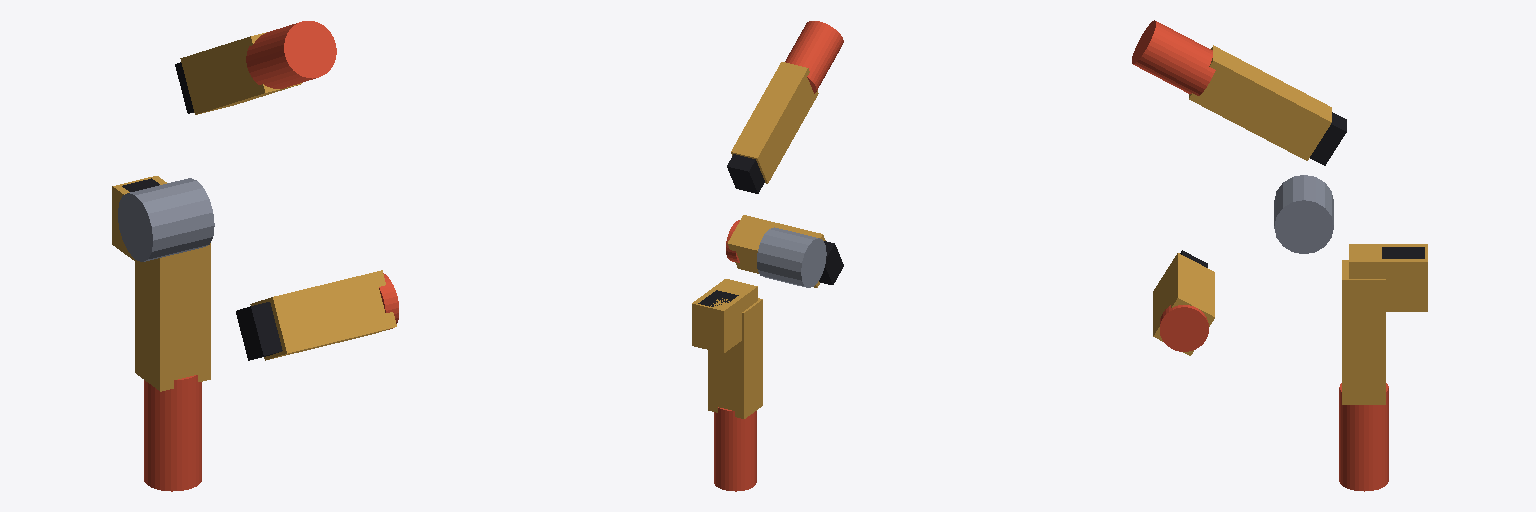
URDF robot description (g0004_c13):
<robot name="g0004_c13">
  <link name="palm">
    <visual name="palm_palm1">
      <origin xyz="0 0 0" rpy="0 0 0" />
      <geometry>
        <mesh filename="palm_palm1.obj" />
      </geometry>
      <material name="palm_palm1_mat">
        <color rgba="0.55 0.57 0.62 1" />
      </material>
    </visual>
    <collision>
      <origin xyz="0 0 0" rpy="0 0 0" />
      <geometry>
        <mesh filename="palm_palm1.obj" />
      </geometry>
    </collision>
    <visual name="palm_mount2">
      <origin xyz="0 0 0" rpy="0 0 0" />
      <geometry>
        <mesh filename="palm_mount2.obj" />
      </geometry>
      <material name="palm_mount2_mat">
        <color rgba="0.55 0.57 0.62 1" />
      </material>
    </visual>
    <collision>
      <origin xyz="0 0 0" rpy="0 0 0" />
      <geometry>
        <mesh filename="palm_mount2.obj" />
      </geometry>
    </collision>
    <visual name="palm_motor3">
      <origin xyz="-0.007 -0.08 -0.04" rpy="1.06057524e-16 -1.04719755 1.57079633" />
      <geometry>
        <box size="0.029 0.034 0.02" />
      </geometry>
      <material name="palm_motor3_mat">
        <color rgba="0.15 0.15 0.17 1" />
      </material>
    </visual>
    <collision>
      <origin xyz="-0.007 -0.08 -0.04" rpy="1.06057524e-16 -1.04719755 1.57079633" />
      <geometry>
        <box size="0.029 0.034 0.02" />
      </geometry>
    </collision>
    <visual name="palm_motor4">
      <origin xyz="0 0.00649519053 0.07625" rpy="-1.57079633 -1.04719755 1.57079633" />
      <geometry>
        <box size="0.029 0.034 0.02" />
      </geometry>
      <material name="palm_motor4_mat">
        <color rgba="0.15 0.15 0.17 1" />
      </material>
    </visual>
    <collision>
      <origin xyz="0 0.00649519053 0.07625" rpy="-1.57079633 -1.04719755 1.57079633" />
      <geometry>
        <box size="0.029 0.034 0.02" />
      </geometry>
    </collision>
    <visual name="palm_motor5">
      <origin xyz="-0.0045 0.0665 -0.0325" rpy="1.57079633 1.2246468e-16 -1.57079633" />
      <geometry>
        <box size="0.029 0.034 0.02" />
      </geometry>
      <material name="palm_motor5_mat">
        <color rgba="0.15 0.15 0.17 1" />
      </material>
    </visual>
    <collision>
      <origin xyz="-0.0045 0.0665 -0.0325" rpy="1.57079633 1.2246468e-16 -1.57079633" />
      <geometry>
        <box size="0.029 0.034 0.02" />
      </geometry>
    </collision>
    <inertial>
      <origin xyz="0 0.00036853476 0.00140943378" rpy="-1.57079633 0.555818498 -1.57079633" />
      <mass value="0.735750304" />
      <inertia ixx="0.00102688276" ixy="0" ixz="0" iyy="0.00139530979" iyz="0" izz="0.00235156052" />
    </inertial>
  </link>
  <link name="f0_link0">
    <visual name="f0_link0_link1">
      <origin xyz="0.02375 0 -6.9388939e-18" rpy="4.06369831e-17 2.80588734e-33 -2.0827301e-33" />
      <geometry>
        <box size="0.0715 0.033 0.029" />
      </geometry>
      <material name="f0_link0_link1_mat">
        <color rgba="0.80 0.62 0.30 1" />
      </material>
    </visual>
    <collision>
      <origin xyz="0.02375 0 -6.9388939e-18" rpy="4.06369831e-17 2.80588734e-33 -2.0827301e-33" />
      <geometry>
        <box size="0.0715 0.033 0.029" />
      </geometry>
    </collision>
    <inertial>
      <origin xyz="0.02375 0 0" rpy="0 0 0" />
      <mass value="0.119744625" />
      <inertia ixx="1.92589272e-05" ixy="0" ixz="0" iyy="5.94058074e-05" iyz="0" izz="6.18805296e-05" />
    </inertial>
  </link>
  <link name="f0_link1">
    <visual name="f0_link1_link1">
      <origin xyz="0.009 6.9388939e-18 -6.9388939e-18" rpy="-1.57079633 -0 -1.57079633" />
      <geometry>
        <cylinder radius="0.0165" length="0.009" />
      </geometry>
      <material name="f0_link1_link1_mat">
        <color rgba="0.85 0.35 0.25 1" />
      </material>
    </visual>
    <collision>
      <origin xyz="0.009 6.9388939e-18 -6.9388939e-18" rpy="-1.57079633 -0 -1.57079633" />
      <geometry>
        <cylinder radius="0.0165" length="0.009" />
      </geometry>
    </collision>
    <inertial>
      <origin xyz="0.009 0 0" rpy="0 0 0" />
      <mass value="0.046399949" />
      <inertia ixx="5.41970115e-06" ixy="0" ixz="0" iyy="7.09430898e-06" iyz="0" izz="7.09430898e-06" />
    </inertial>
  </link>
  <link name="f1_link0">
    <visual name="f1_link0_link1">
      <origin xyz="0.03375 0 0" rpy="0 7.03853194e-17 0" />
      <geometry>
        <box size="0.0915 0.024 0.033" />
      </geometry>
      <material name="f1_link0_link1_mat">
        <color rgba="0.80 0.62 0.30 1" />
      </material>
    </visual>
    <collision>
      <origin xyz="0.03375 0 0" rpy="0 7.03853194e-17 0" />
      <geometry>
        <box size="0.0915 0.024 0.033" />
      </geometry>
    </collision>
    <inertial>
      <origin xyz="0.03375 0 0" rpy="0 0 0" />
      <mass value="0.126819" />
      <inertia ixx="1.75961363e-05" ixy="0" ixz="0" iyy="9.99888553e-05" iyz="0" izz="9.45673431e-05" />
    </inertial>
  </link>
  <link name="f1_link1">
    <visual name="f1_link1_link1">
      <origin xyz="0.029 0 -6.9388939e-18" rpy="-1.57079633 -0 -1.57079633" />
      <geometry>
        <cylinder radius="0.0165" length="0.049" />
      </geometry>
      <material name="f1_link1_link1_mat">
        <color rgba="0.85 0.35 0.25 1" />
      </material>
    </visual>
    <collision>
      <origin xyz="0.029 0 -6.9388939e-18" rpy="-1.57079633 -0 -1.57079633" />
      <geometry>
        <cylinder radius="0.0165" length="0.049" />
      </geometry>
    </collision>
    <inertial>
      <origin xyz="0.029 0 0" rpy="0 0 0" />
      <mass value="0.106270851" />
      <inertia ixx="1.35696277e-05" ixy="0" ixz="0" iyy="5.30015704e-05" iyz="0" izz="5.30015704e-05" />
    </inertial>
  </link>
  <link name="f2_link0">
    <visual name="f2_link0_link1">
      <origin xyz="-0.00625 0 -0.0165" rpy="0 -0 0" />
      <geometry>
        <box size="0.0365 0.029 0.053" />
      </geometry>
      <material name="f2_link0_link1_mat">
        <color rgba="0.80 0.62 0.30 1" />
      </material>
    </visual>
    <collision>
      <origin xyz="-0.00625 0 -0.0165" rpy="0 -0 0" />
      <geometry>
        <box size="0.0365 0.029 0.053" />
      </geometry>
    </collision>
    <inertial>
      <origin xyz="-0.00625 0 -0.0165" rpy="0 0 0" />
      <mass value="0.098175875" />
      <inertia ixx="2.98618286e-05" ixy="0" ixz="0" iyy="3.38809035e-05" iyz="0" izz="1.778006e-05" />
    </inertial>
  </link>
  <link name="f2_link1">
    <visual name="f2_link1_link1">
      <origin xyz="0.03375 0 -6.9388939e-18" rpy="0 -0 0" />
      <geometry>
        <box size="0.0915 0.033 0.029" />
      </geometry>
      <material name="f2_link1_link1_mat">
        <color rgba="0.80 0.62 0.30 1" />
      </material>
    </visual>
    <collision>
      <origin xyz="0.03375 0 -6.9388939e-18" rpy="0 -0 0" />
      <geometry>
        <box size="0.0915 0.033 0.029" />
      </geometry>
    </collision>
    <inertial>
      <origin xyz="0.03375 0 0" rpy="0 0 0" />
      <mass value="0.153239625" />
      <inertia ixx="2.46460397e-05" ixy="0" ixz="0" iyy="0.000117652915" iyz="0" izz="0.000120819867" />
    </inertial>
  </link>
  <link name="f2_link2">
    <visual name="f2_link2_link1">
      <origin xyz="0.039 0 0" rpy="-1.57079633 -0 -1.57079633" />
      <geometry>
        <cylinder radius="0.0165" length="0.069" />
      </geometry>
      <material name="f2_link2_link1_mat">
        <color rgba="0.85 0.35 0.25 1" />
      </material>
    </visual>
    <collision>
      <origin xyz="0.039 0 0" rpy="-1.57079633 -0 -1.57079633" />
      <geometry>
        <cylinder radius="0.0165" length="0.069" />
      </geometry>
    </collision>
    <inertial>
      <origin xyz="0.039 0 0" rpy="0 0 0" />
      <mass value="0.136206302" />
      <inertia ixx="1.76445909e-05" ixy="0" ixz="0" iyy="0.000104842911" iyz="0" izz="0.000104842911" />
    </inertial>
  </link>
  <joint name="f0_j0" type="revolute">
    <parent link="palm" />
    <child link="f0_link0" />
    <origin xyz="0.0005 -0.08 -0.04" rpy="1.04719755 5.30287619e-17 -3.061617e-17" />
    <axis xyz="0 1 6.123234e-17" />
    <limit effort="0.5" lower="-0.523598776" upper="0.523598776" velocity="5" />
    <dynamics damping="0.0775033" friction="0" />
  </joint>
  <joint name="f0_j1" type="revolute">
    <parent link="f0_link0" />
    <child link="f0_link1" />
    <origin xyz="0.05 0 0" rpy="0 0 0" />
    <axis xyz="0 0 1" />
    <limit effort="0.5" lower="-0.523598776" upper="1.57079633" velocity="5" />
    <dynamics damping="0.0775033" friction="0" />
  </joint>
  <joint name="f1_j0" type="revolute">
    <parent link="palm" />
    <child link="f1_link0" />
    <origin xyz="0 0 0.08" rpy="-0 -0.523598776 -1.57079633" />
    <axis xyz="0 0 1" />
    <limit effort="0.5" lower="-0.523598776" upper="1.57079633" velocity="5" />
    <dynamics damping="0.0775033" friction="0" />
  </joint>
  <joint name="f1_j1" type="revolute">
    <parent link="f1_link0" />
    <child link="f1_link1" />
    <origin xyz="0.07 0 0" rpy="0 0 0" />
    <axis xyz="0 0 1" />
    <limit effort="0.5" lower="-0.523598776" upper="1.57079633" velocity="5" />
    <dynamics damping="0.0775033" friction="0" />
  </joint>
  <joint name="f2_j0" type="revolute">
    <parent link="palm" />
    <child link="f2_link0" />
    <origin xyz="-0.0045 0.04 -0.04" rpy="1.57079633 1.57079633 0" />
    <axis xyz="0 0 1" />
    <limit effort="0.5" lower="-0.523598776" upper="1.57079633" velocity="5" />
    <dynamics damping="0.0775033" friction="0" />
  </joint>
  <joint name="f2_j1" type="revolute">
    <parent link="f2_link0" />
    <child link="f2_link1" />
    <origin xyz="0 0 0" rpy="0 0 0" />
    <axis xyz="0 1 6.123234e-17" />
    <limit effort="0.5" lower="-0.523598776" upper="0.523598776" velocity="5" />
    <dynamics damping="0.0775033" friction="0" />
  </joint>
  <joint name="f2_j2" type="revolute">
    <parent link="f2_link1" />
    <child link="f2_link2" />
    <origin xyz="0.07 0 0" rpy="0 0 0" />
    <axis xyz="0 0 1" />
    <limit effort="0.5" lower="-0.523598776" upper="1.57079633" velocity="5" />
    <dynamics damping="0.0775033" friction="0" />
  </joint>
</robot>

--- What the picture shows (computed from the rendered views, not written in the file) ---
Views: 3 orthographic renders of the robot side by side, from view 1: azimuth 30°, elevation 25°; view 2: azimuth 150°, elevation 25°; view 3: azimuth 270°, elevation 25°.
Robot: g0004_c13 — 8 links, 7 joints (7 revolute); root link palm; default pose: all joints at 0.
Visible links, largest first — view 1: f2_link1, palm, f0_link0, f2_link2, f1_link1, f1_link0, f2_link0; view 2: palm, f1_link0, f2_link1, f2_link2, f2_link0, f1_link1, f0_link0; view 3: f1_link0, f2_link1, palm, f2_link2, f1_link1, f2_link0, f0_link0, f0_link1.
Boxes of the visible links, x1=… form: f2_link1: x1=135, y1=243, x2=210, y2=391; palm: x1=118, y1=62, x2=282, y2=360; f0_link0: x1=250, y1=270, x2=396, y2=360; f2_link2: x1=144, y1=375, x2=201, y2=491; f1_link1: x1=246, y1=21, x2=336, y2=88; f1_link0: x1=180, y1=32, x2=301, y2=114; f2_link0: x1=112, y1=176, x2=166, y2=260; palm: x1=698, y1=154, x2=843, y2=306; f1_link0: x1=731, y1=62, x2=818, y2=183; f2_link1: x1=708, y1=298, x2=762, y2=418; f2_link2: x1=714, y1=407, x2=756, y2=491; f2_link0: x1=692, y1=279, x2=757, y2=353; f1_link1: x1=785, y1=21, x2=843, y2=93; f0_link0: x1=727, y1=215, x2=825, y2=287; f1_link0: x1=1189, y1=45, x2=1331, y2=160; f2_link1: x1=1342, y1=260, x2=1385, y2=404; palm: x1=1180, y1=112, x2=1424, y2=267; f2_link2: x1=1339, y1=383, x2=1388, y2=491; f1_link1: x1=1132, y1=20, x2=1215, y2=95; f2_link0: x1=1349, y1=244, x2=1427, y2=311; f0_link0: x1=1153, y1=253, x2=1214, y2=355; f0_link1: x1=1160, y1=305, x2=1208, y2=351.
Bounding box of the posed robot: 0.116 × 0.1982 × 0.3395 m (x, y, z).
Meshes: 2 distinct files referenced, 1 mesh visuals loaded (1 OBJ); not drawn: 1 (reference not matched to a file when rendering).
